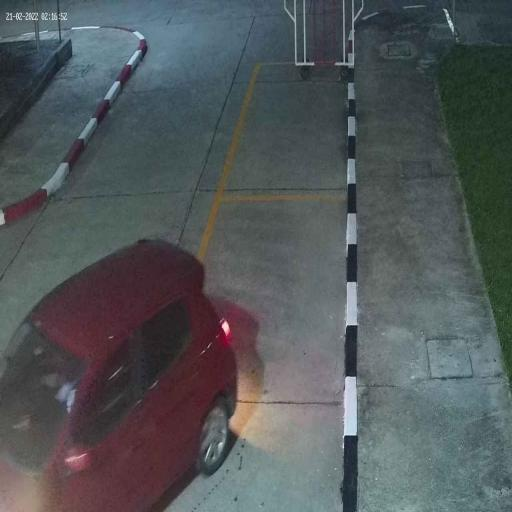car: (0, 236, 241, 509)
